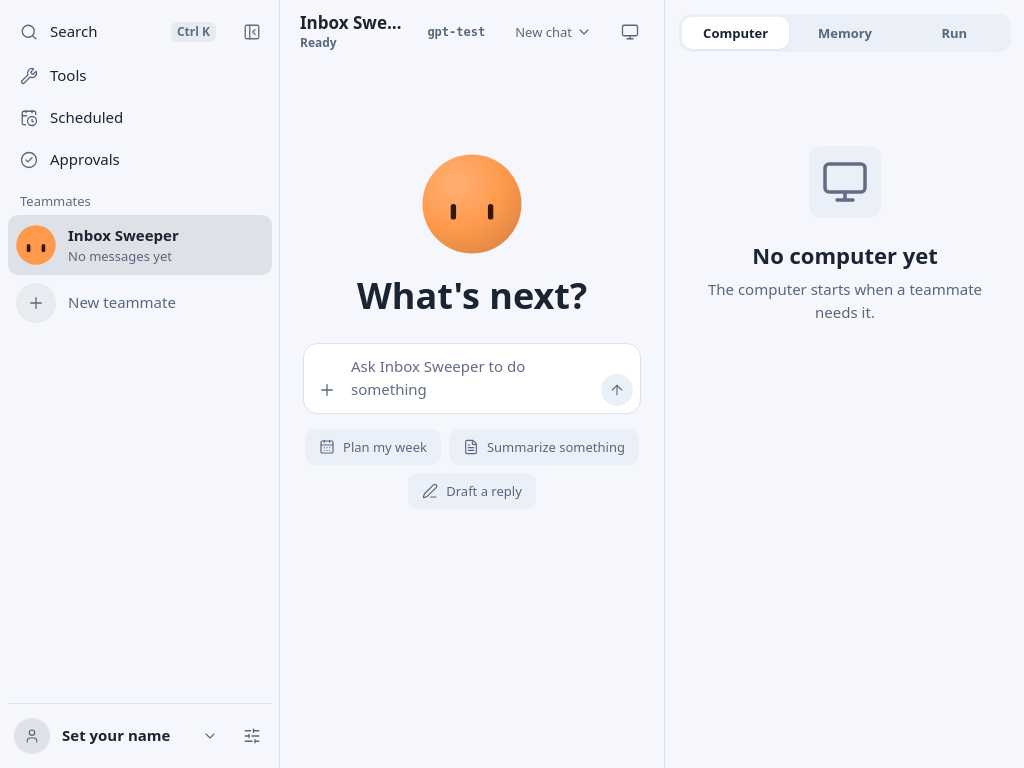
Test case: new-chat landing › docks the same composer after the first send and moves Mawl into the header
Expected: the heading "What's next?" is shown, [357,276,587,316]
Type "Say hello" into the text box named "Message Inbox Sweeper" at (472, 378), box [347,351,597,406]
Then press Enter
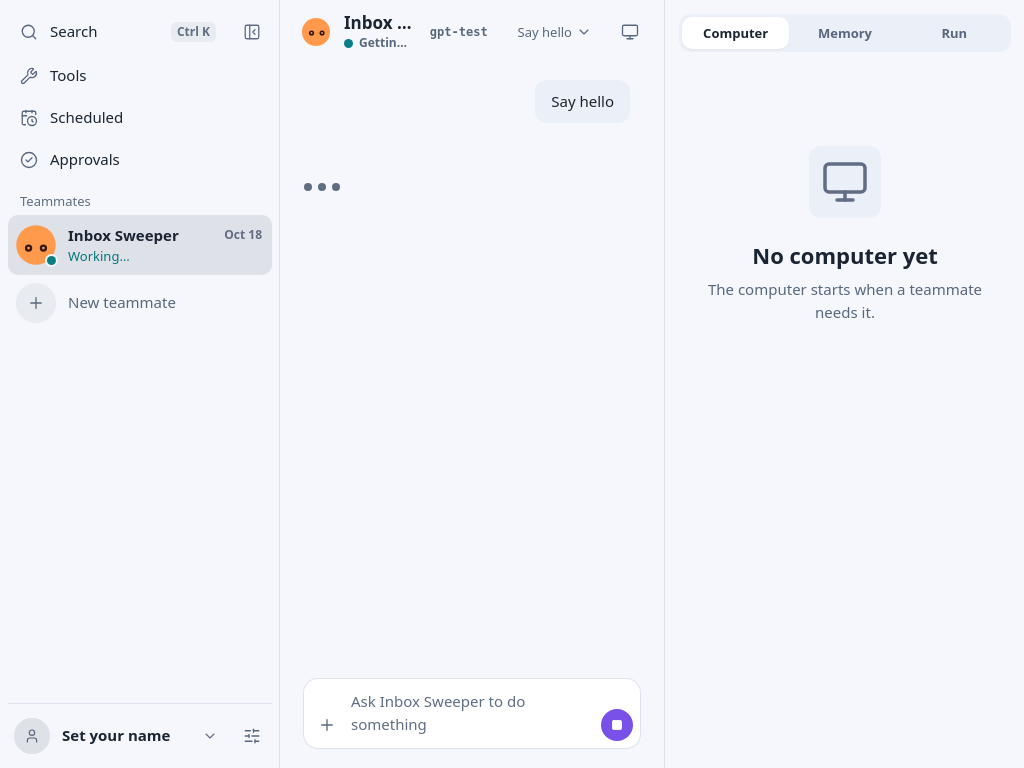
Expected: the heading "What's next?" is gone
Expected: the button "Plan my week" is gone
